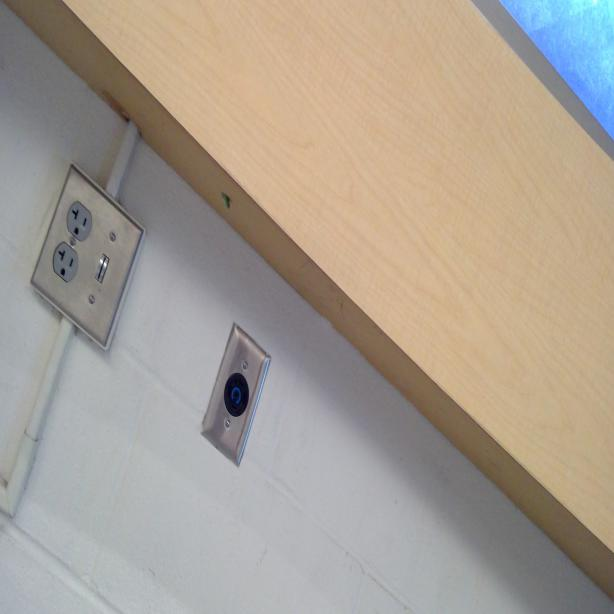typeb: (54, 246, 76, 285), (66, 204, 91, 238)
